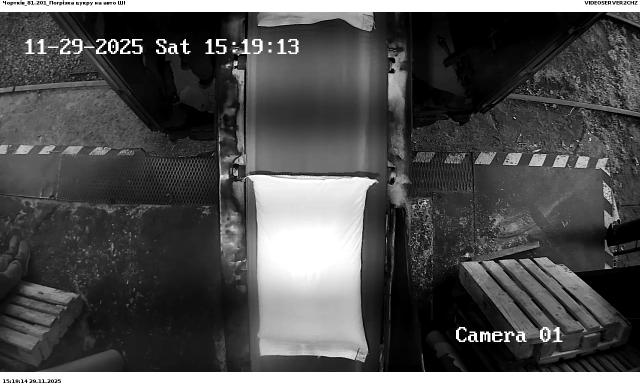bag: (243, 174, 378, 363)
